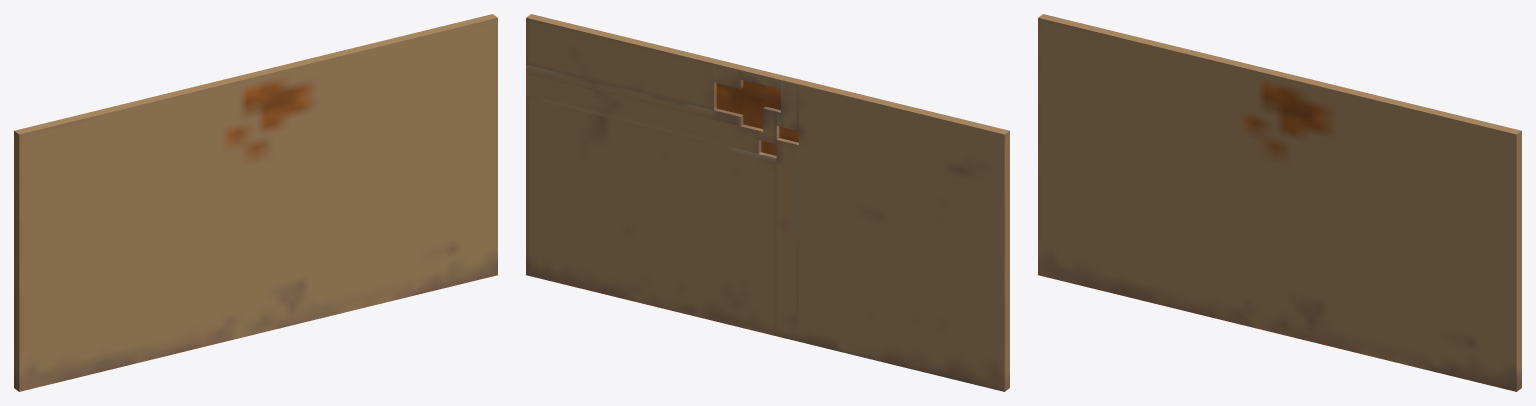
The model's file is WallRightSideMinimallyDamaged_01.fbx.
3 renders of one model, left to right at view 1: azimuth 30°, elevation 25°; view 2: azimuth 150°, elevation 25°; view 3: azimuth 330°, elevation 25°, orthographic.
Parts seen in each view (by area): view 1: WallRightSideMinimallyDamaged_01; view 2: WallRightSideMinimallyDamaged_01; view 3: WallRightSideMinimallyDamaged_01.
Boxes of the visible parts, box(x1,y1,x2,y2) form: WallRightSideMinimallyDamaged_01: box(14, 14, 497, 391); WallRightSideMinimallyDamaged_01: box(526, 14, 1009, 391); WallRightSideMinimallyDamaged_01: box(1038, 14, 1521, 391).
Size of the model in its own units: 535 by 10 by 275.
1 material, 1 textured.
